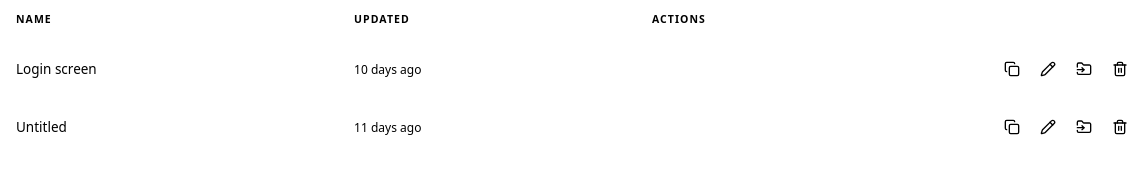
Test: FilesTable - files (existing behavior) › shows a conflict message inline and stays in edit mode on a 409
This screenshot has width=1144, height=173.
Click the button named "Rename" in the row of "Login screen" at (1048, 69), box left=1032, top=53, right=1064, bottom=85
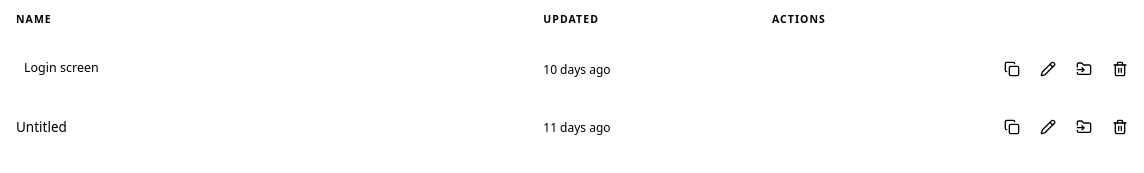
Replace the text in the field named "File name" with "Conflicted" at (264, 69), box left=24, top=53, right=503, bottom=84
Then press Enter
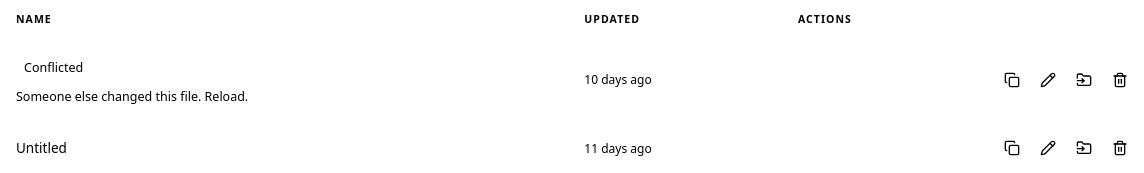
Expected: the text "Someone else changed this file. Reload." is shown, left=16, top=88, right=248, bottom=104
